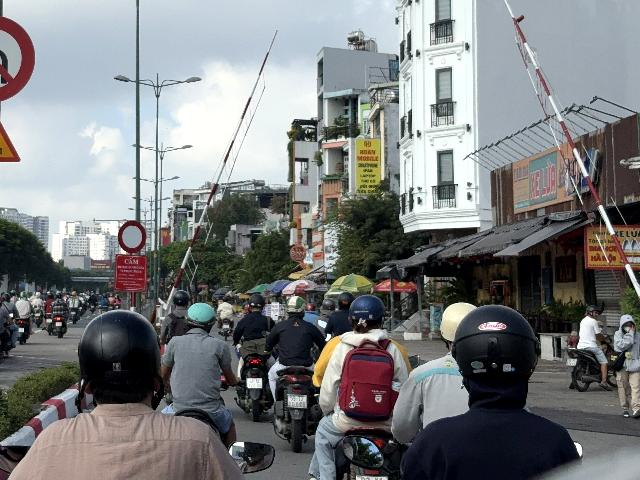duong-cam: (118, 219, 146, 254)
